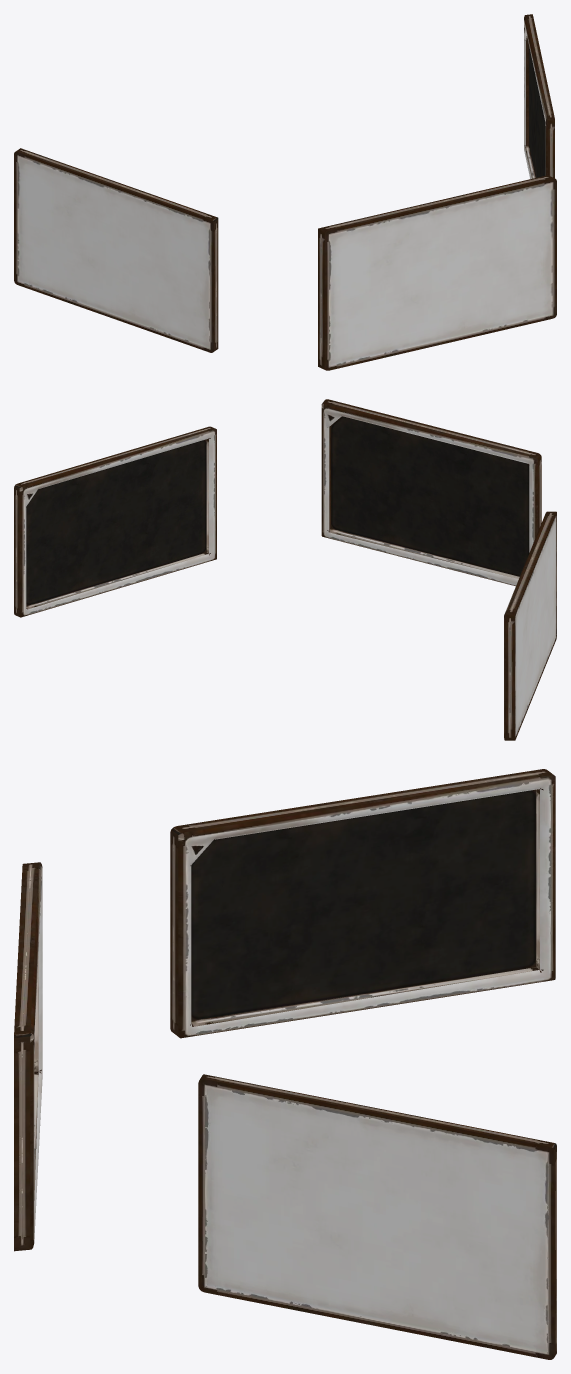
Rendered from Screens.glb.
3 views of the same model, one above another, from view 1: azimuth 30°, elevation 25°; view 2: azimuth 150°, elevation 25°; view 3: azimuth 270°, elevation 25° (orthographic). The views are drawn at different scales.
Parts seen in each view (by area): view 1: Object_2.020, Object_2.022, Object_2.021; view 2: Object_2.020, Object_2.021, Object_2.022; view 3: Object_2.022, Object_2.021, Object_2.020.
Part boxes in pixels (x1=…): Object_2.020: x1=318, y1=175, x2=556, y2=370; Object_2.022: x1=14, y1=148, x2=218, y2=352; Object_2.021: x1=524, y1=14, x2=554, y2=178; Object_2.020: x1=321, y1=399, x2=541, y2=586; Object_2.021: x1=14, y1=426, x2=216, y2=617; Object_2.022: x1=504, y1=511, x2=556, y2=740; Object_2.022: x1=170, y1=769, x2=555, y2=1038; Object_2.021: x1=198, y1=1074, x2=556, y2=1359; Object_2.020: x1=14, y1=862, x2=42, y2=1251.
Size of the model in its own units: 25.39 by 6.66 by 14.77.
Materials: 3 (3 with a texture image).
